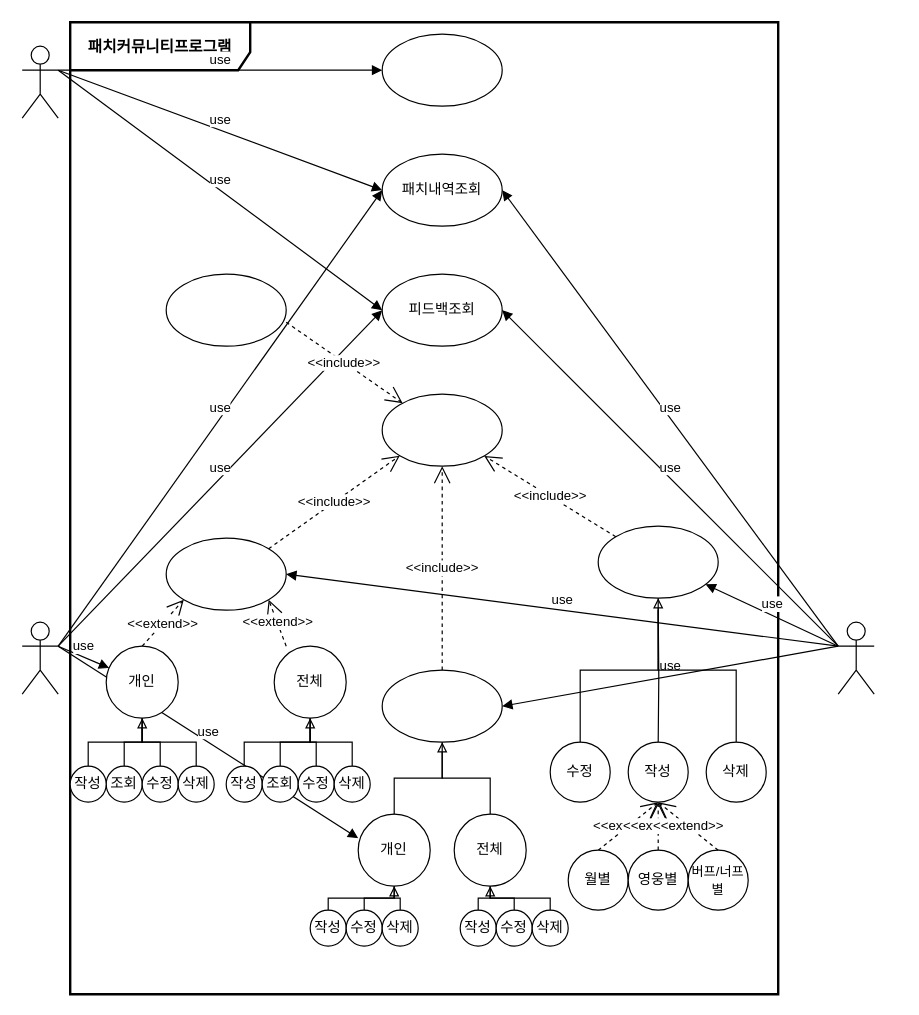
Image size: 919x1015. Some labels were removed from this diagram. Each missing label, with the box of its shape:
개발자/관리자: (837, 621, 874, 694)
로그아웃: (165, 273, 286, 346)
로그인: (381, 393, 502, 466)
비회원: (21, 45, 58, 118)
정보조회: (165, 537, 286, 610)
패치서비스: (597, 525, 718, 598)
피드백서비스: (381, 669, 502, 742)
회원: (21, 621, 58, 694)
회원가입: (381, 33, 502, 106)
